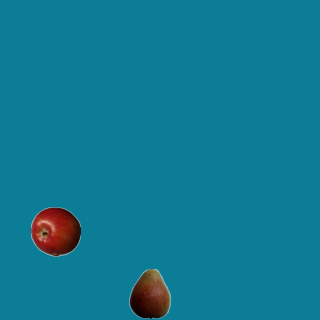Apple Braeburn: (30, 206, 80, 256)
Pear Forelle: (124, 268, 174, 318)
